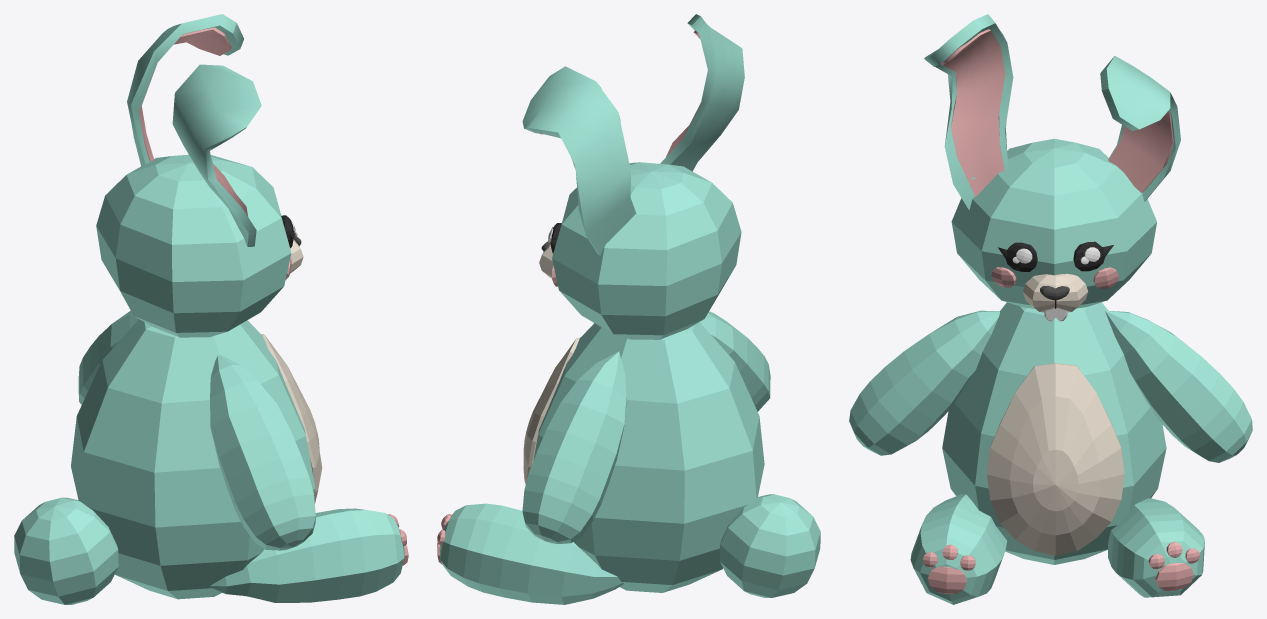
File: Mint Bunny.fbx
3 views of the same model, side by side, from view 1: azimuth 30°, elevation 25°; view 2: azimuth 150°, elevation 25°; view 3: azimuth 270°, elevation 25° (orthographic). The views are drawn at different scales.
Visible parts, largest first — view 1: pSphere20; view 2: pSphere20; view 3: pSphere20.
Part boxes in pixels (<box>): pSphere20: <box>14,14,408,604</box>; pSphere20: <box>437,14,820,604</box>; pSphere20: <box>849,14,1252,604</box>.
Size of the model in its own units: 2.81 by 4.54 by 3.16.
